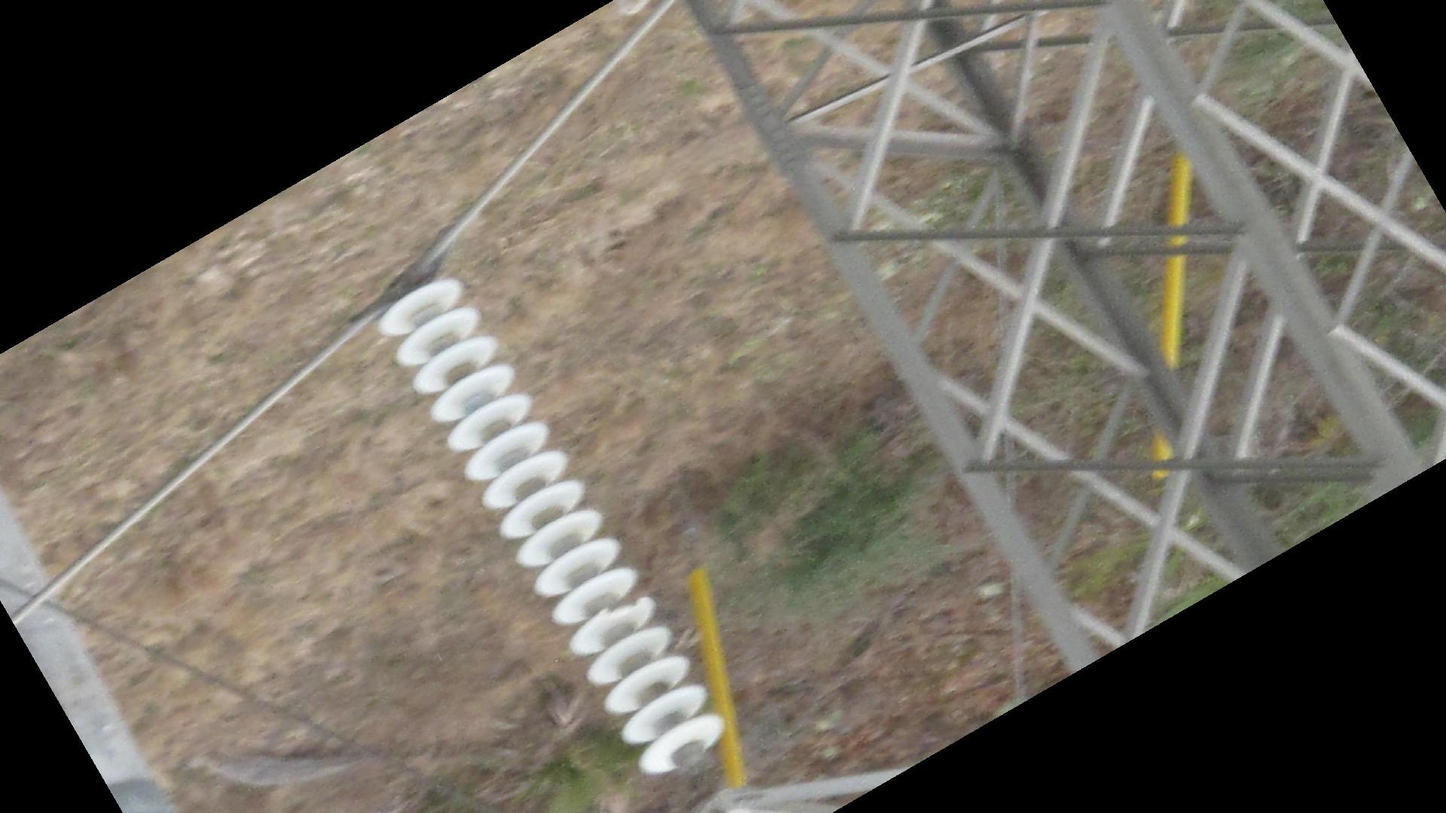insulator: (373, 274, 731, 781)
insulator_breakage: (599, 594, 647, 620)
